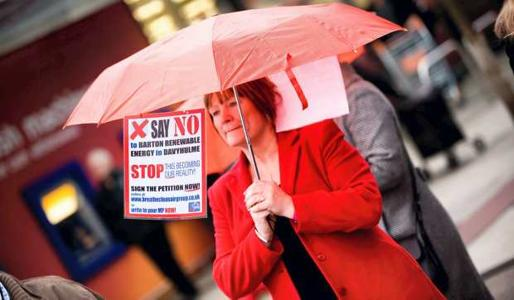person: (205, 77, 448, 300)
